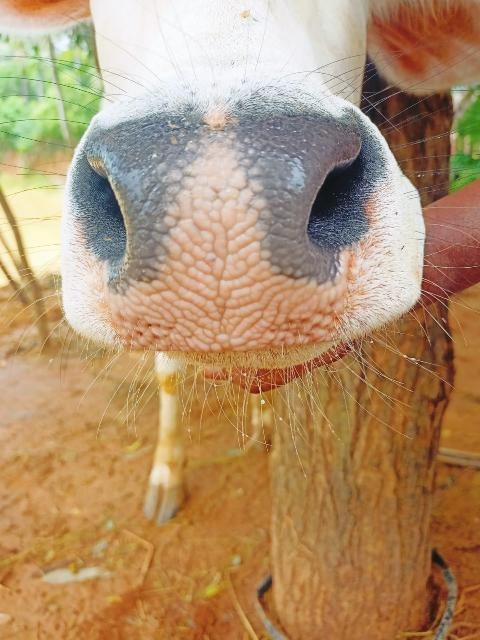Muzzle: (82, 116, 366, 340)
